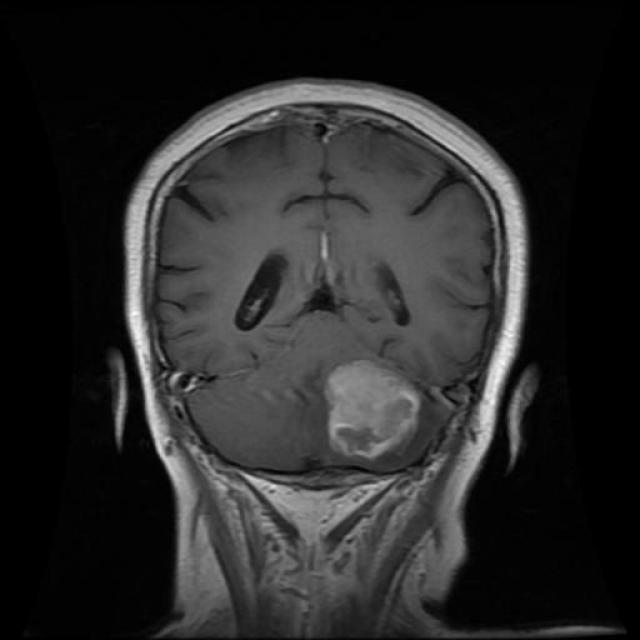Brain-Tumor: (316, 350, 432, 475)
